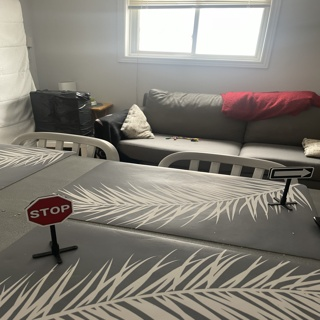sign_oneway_right: (270, 168, 314, 180)
sign_stop: (23, 195, 73, 223)
